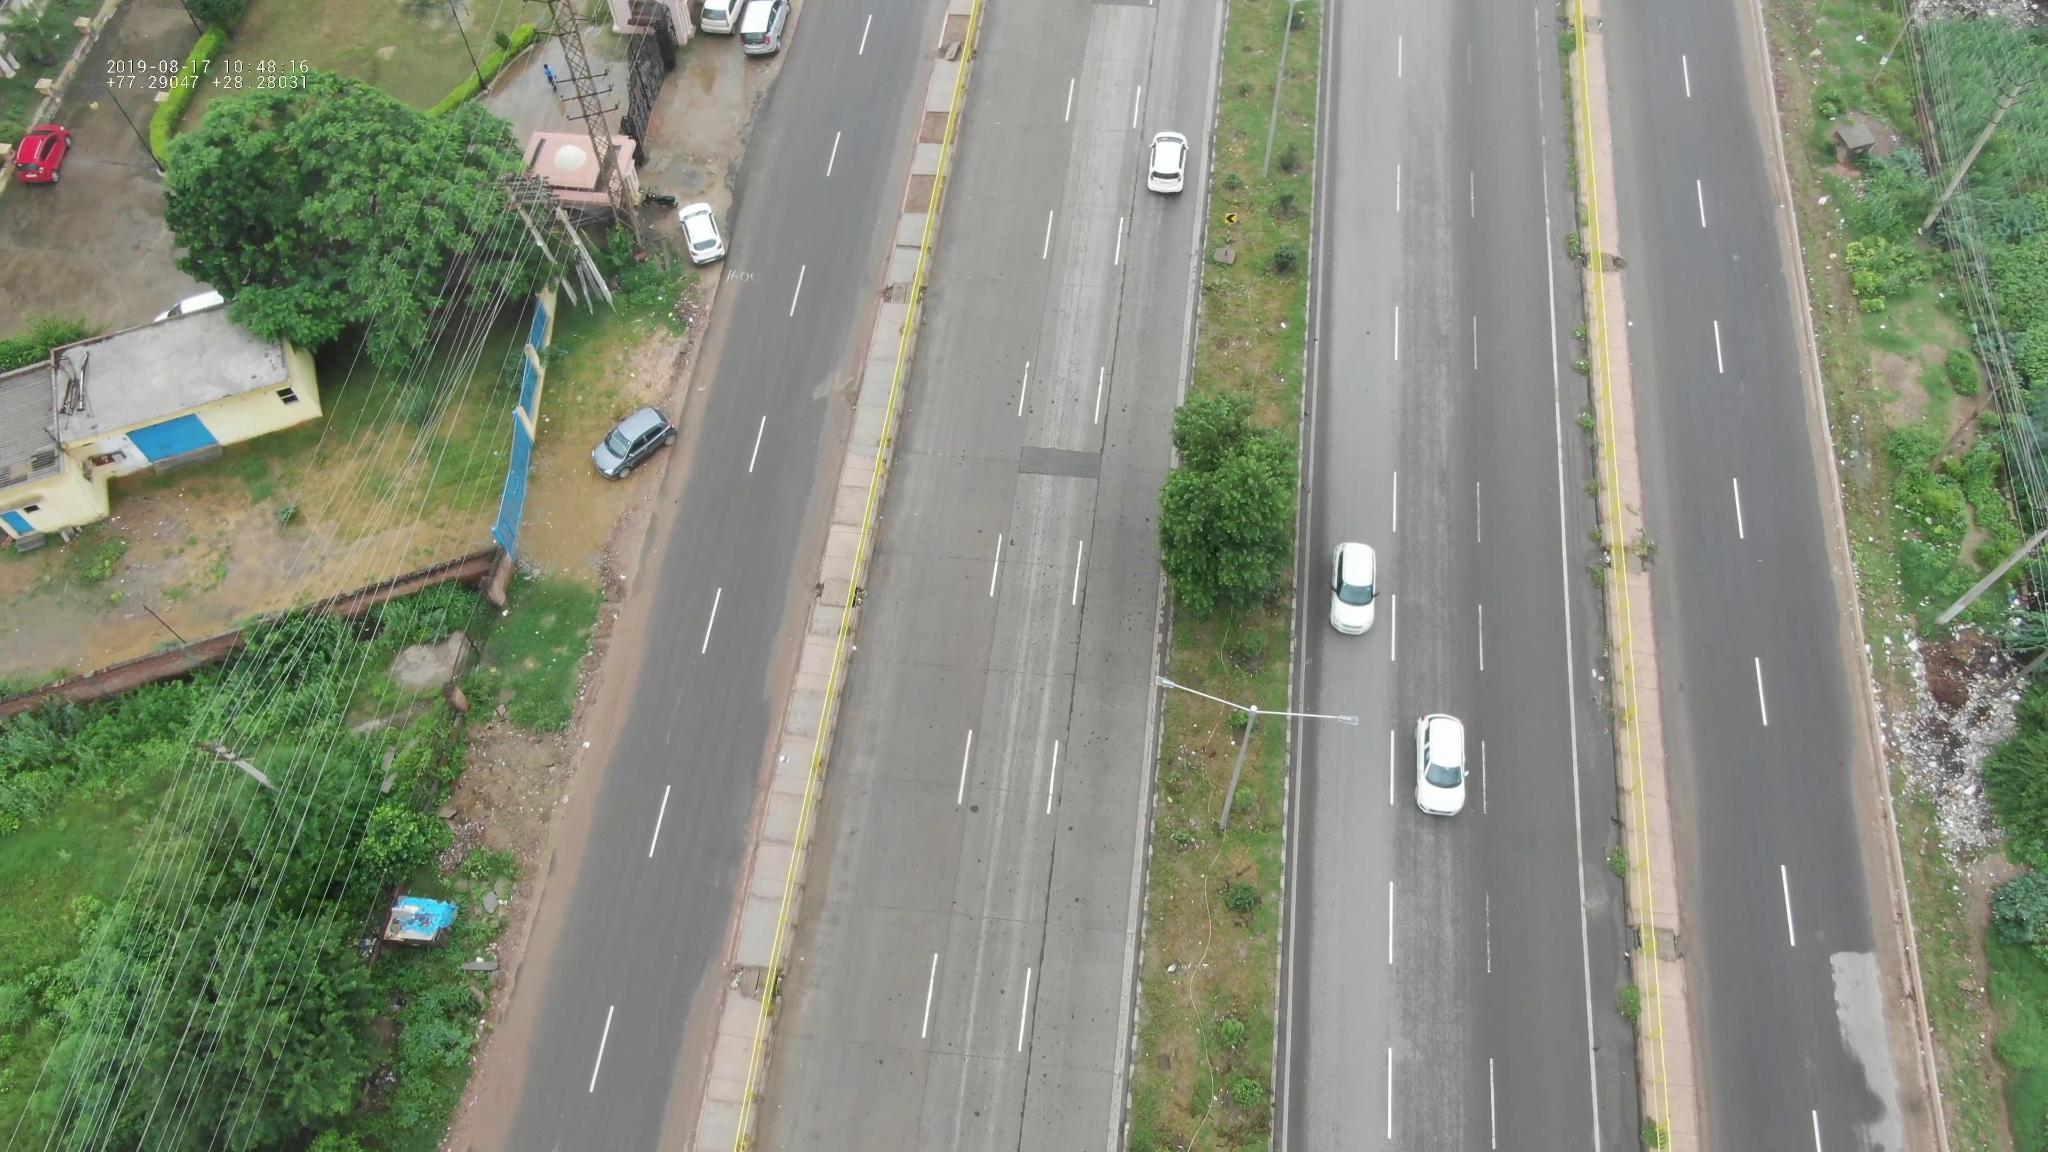Road_side_garbage: (1883, 620, 2023, 859)
